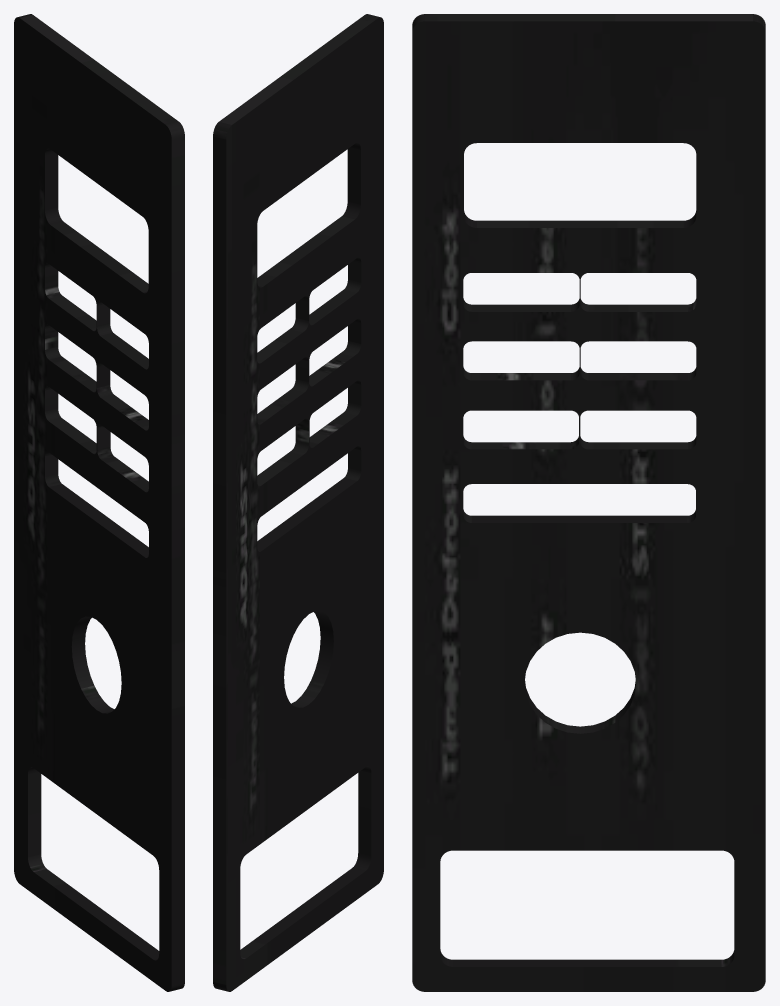
Rendered from baking_3.glb.
The picture shows the model from 3 angles, left to right: view 1: azimuth 30°, elevation 25°; view 2: azimuth 150°, elevation 25°; view 3: azimuth 270°, elevation 25°; orthographic projection. The views are drawn at different scales.
Parts seen in each view (by area): view 1: StaticMeshActor_9_005; view 2: StaticMeshActor_9_005; view 3: StaticMeshActor_9_005.
Part boxes in pixels (left/top/right/bottom): StaticMeshActor_9_005: left=14, top=14, right=184, bottom=991; StaticMeshActor_9_005: left=213, top=14, right=383, bottom=991; StaticMeshActor_9_005: left=412, top=14, right=765, bottom=991.
Bounding box in the file's own units: 0.004 × 0.2494 × 0.0823.
Materials: 1 (1 with a texture image).
